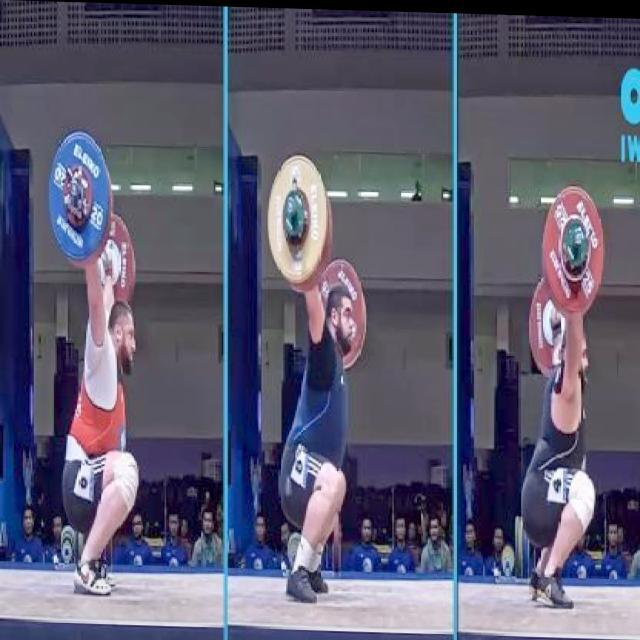barbell: (42, 126, 115, 264), (263, 145, 334, 286), (540, 176, 608, 312)
